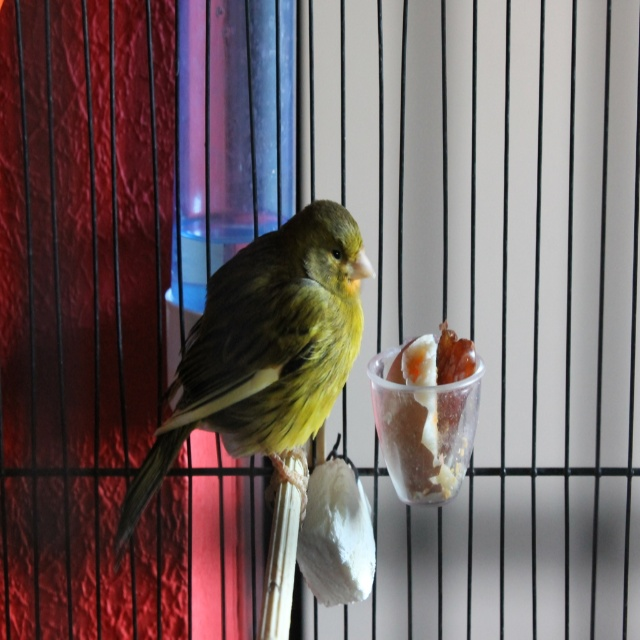Canary: (110, 195, 377, 569)
